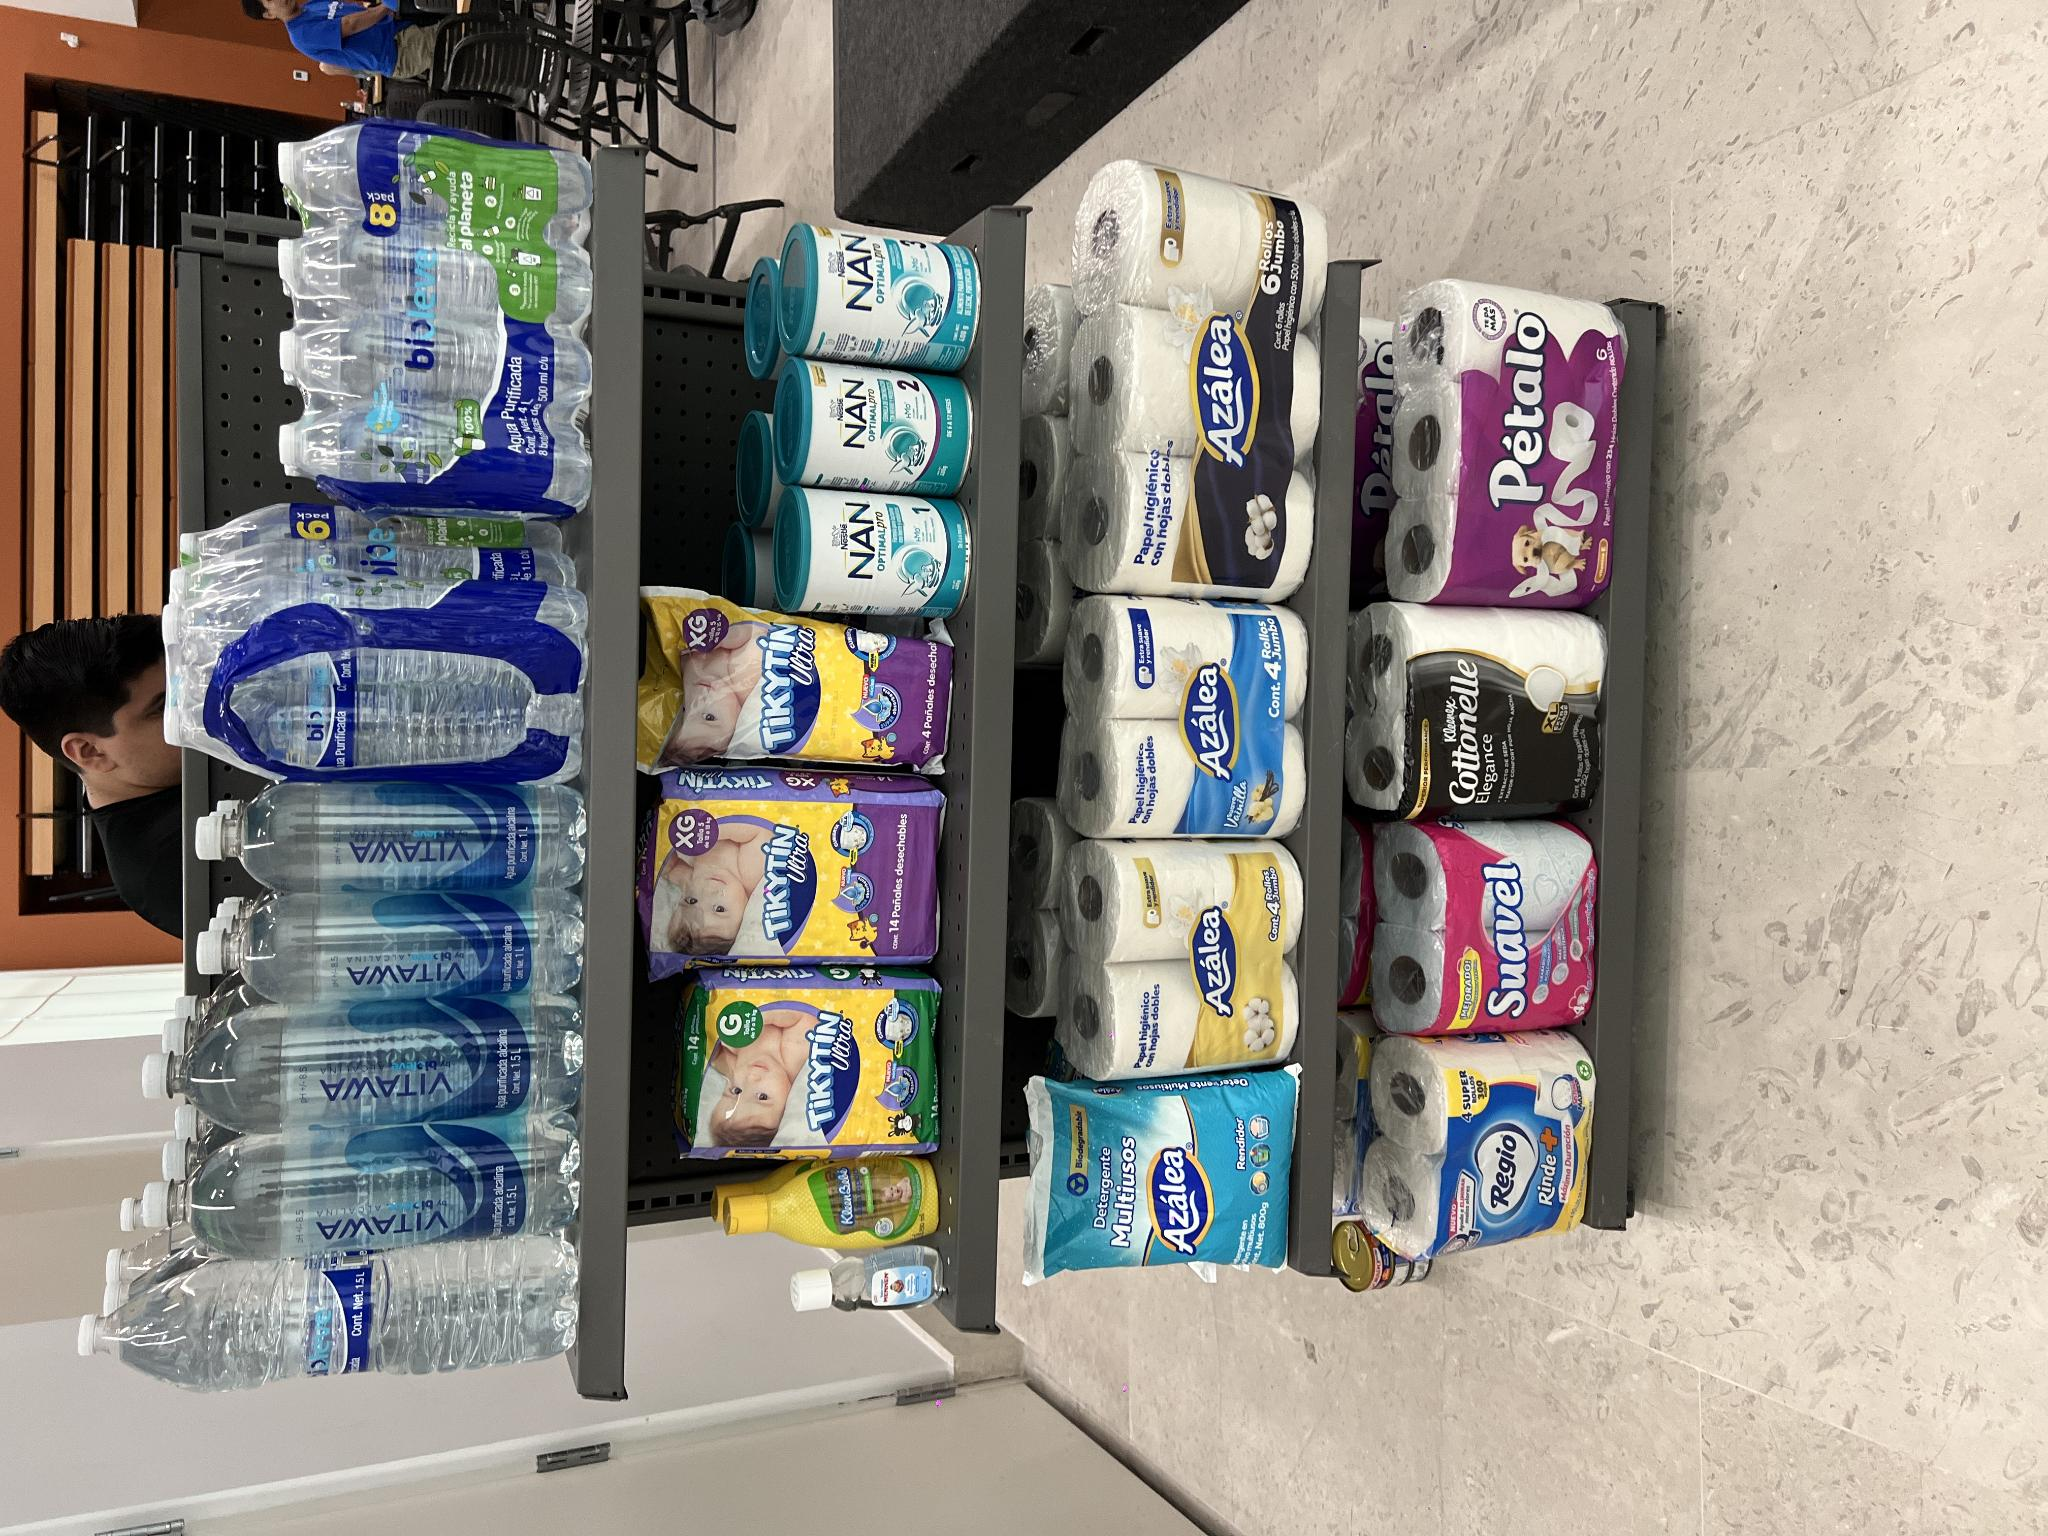aceite_bebe_mennen: (221, 791, 287, 949)
agua_bioleve: (140, 73, 292, 574)
agua_bioleve_6pack: (758, 161, 1029, 589), (1035, 281, 1400, 586)
agua_vitawa_1L: (534, 194, 645, 582), (645, 194, 751, 589)
agua_vitawa_1_5L: (284, 139, 408, 578), (414, 140, 529, 591)
detergente_azaela: (255, 1018, 461, 1297)
nan_nestle_1: (930, 805, 1045, 973)
nan_nestle_2: (1050, 807, 1161, 973)
nan_nestle_3: (1197, 815, 1311, 986)
panales_tikytin_extragrande: (563, 649, 756, 949), (766, 642, 927, 952)
panales_tikytin_grande: (381, 678, 563, 945)
papelhigenico_azaela_6rollos: (948, 1120, 1355, 1323)
papelhigenico_azaela_amarillo: (463, 1112, 692, 1302)
papelhigenico_azaela_azul: (700, 1118, 934, 1307)
papelhigenico_kleenex_cottonelle: (721, 1400, 927, 1536)
papelhigenico_petalo: (939, 1447, 1242, 1536)
papelhigenico_regio: (282, 1436, 487, 1536)
papelhigenico_suavel: (497, 1442, 701, 1536)
shampoo_bebe: (289, 723, 377, 947)
